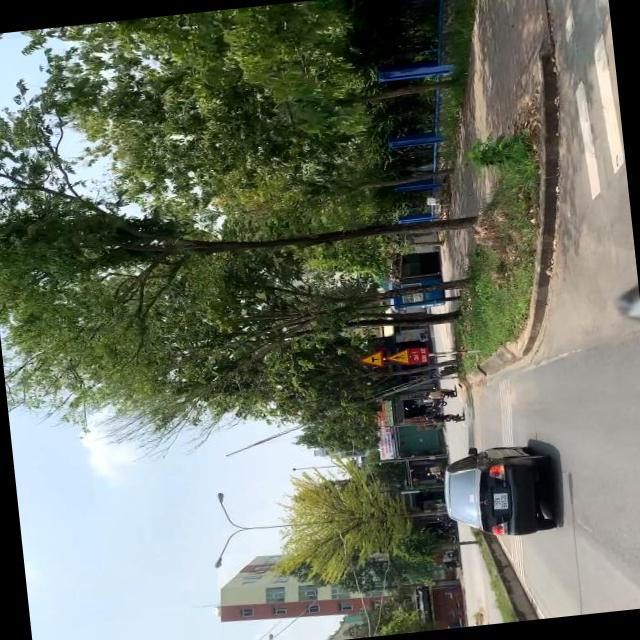W-205d: (357, 349, 385, 368)
W-224: (385, 348, 409, 366)
